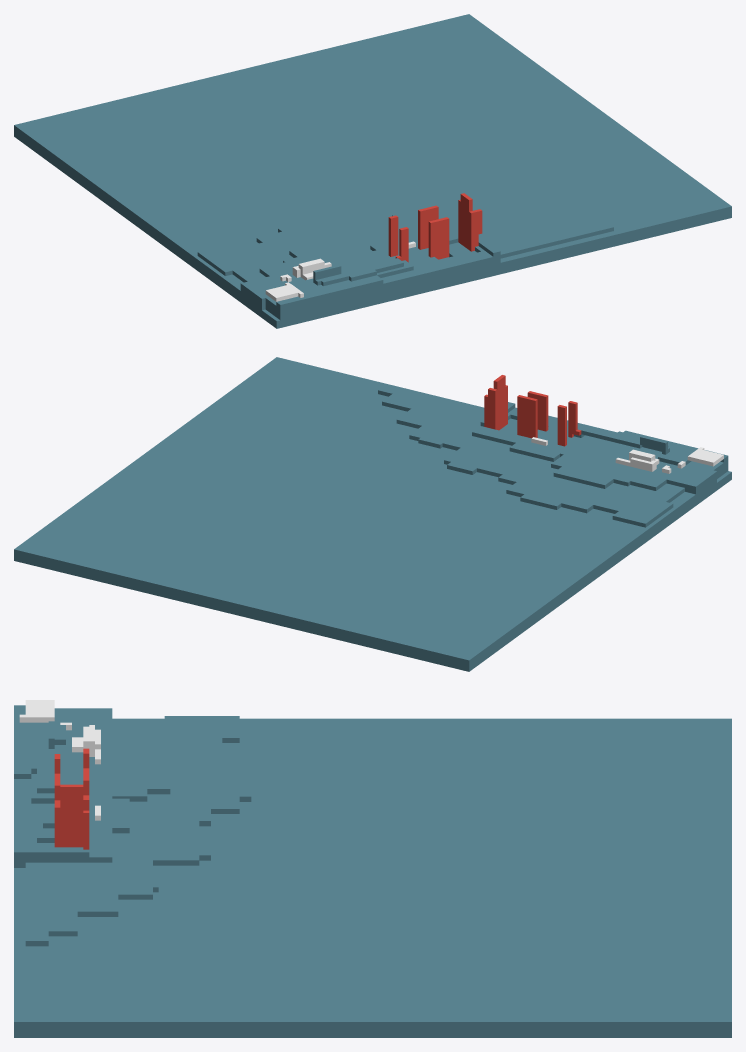
File: sea3.fbx
3 views of the same model, one above another, from view 1: azimuth 30°, elevation 25°; view 2: azimuth 150°, elevation 25°; view 3: azimuth 270°, elevation 25° (orthographic). The views are drawn at different scales.
Parts seen in each view (by area): view 1: 对象; view 2: 对象; view 3: 对象.
Part boxes in pixels (<box>): 对象: <box>14,14,731,328</box>; 对象: <box>14,357,731,671</box>; 对象: <box>14,700,731,1037</box>.
Size of the model in its own units: 124 by 17 by 124.
1 material, 1 textured.
